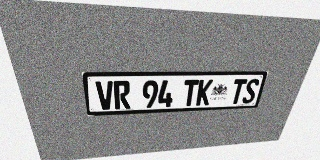4: (158, 80, 174, 107)
9: (142, 80, 158, 108)
K: (195, 79, 213, 106)
R: (113, 81, 130, 109)
S: (241, 79, 260, 104)
T: (229, 79, 248, 104), (182, 80, 199, 106)
V: (95, 81, 114, 110)
